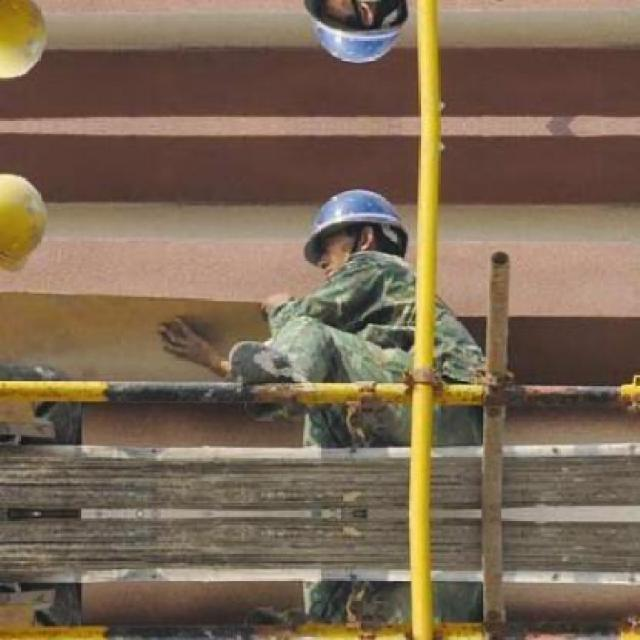helmet: (292, 177, 416, 288), (292, 0, 417, 74)
